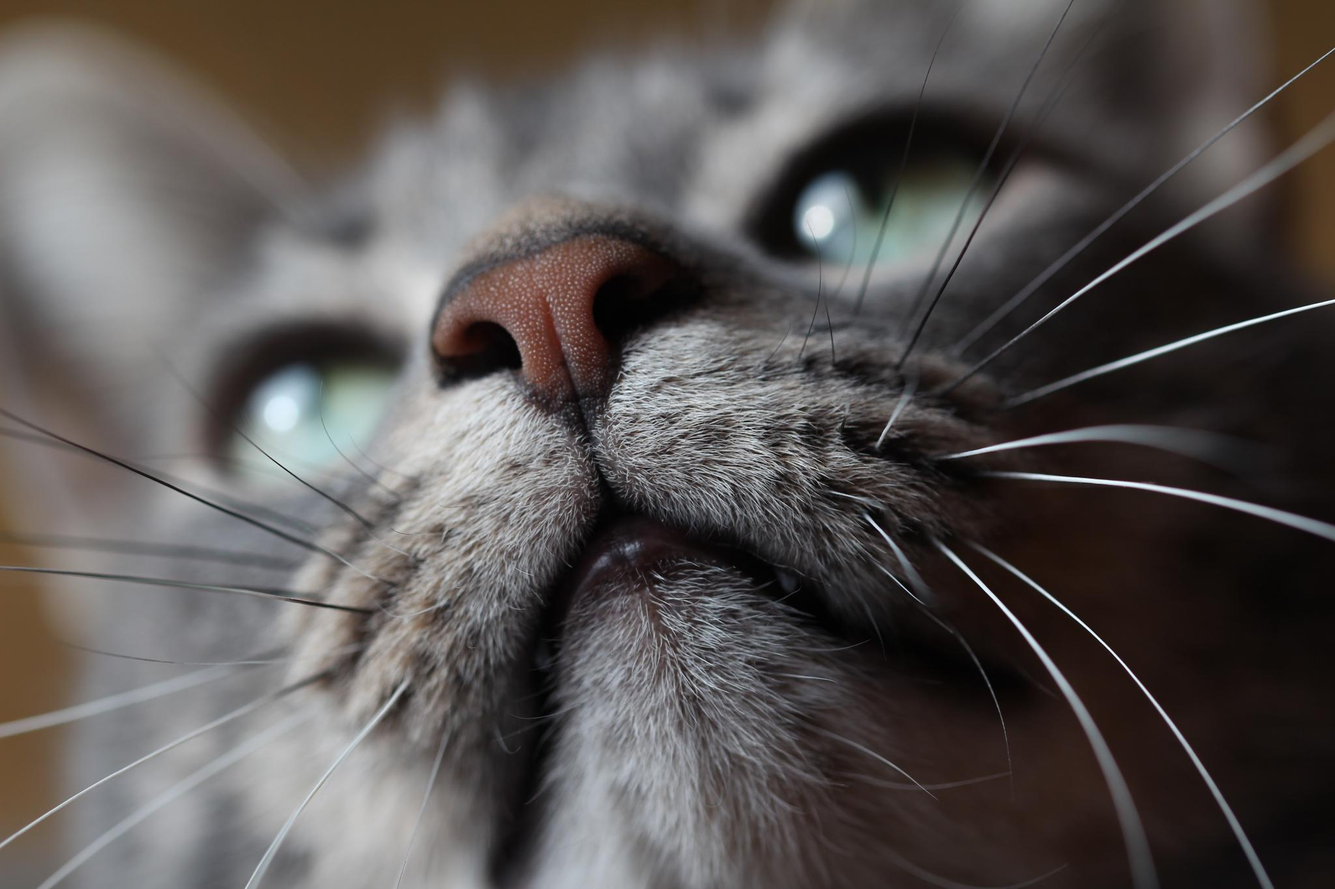cat: (2, 1, 1331, 887)
